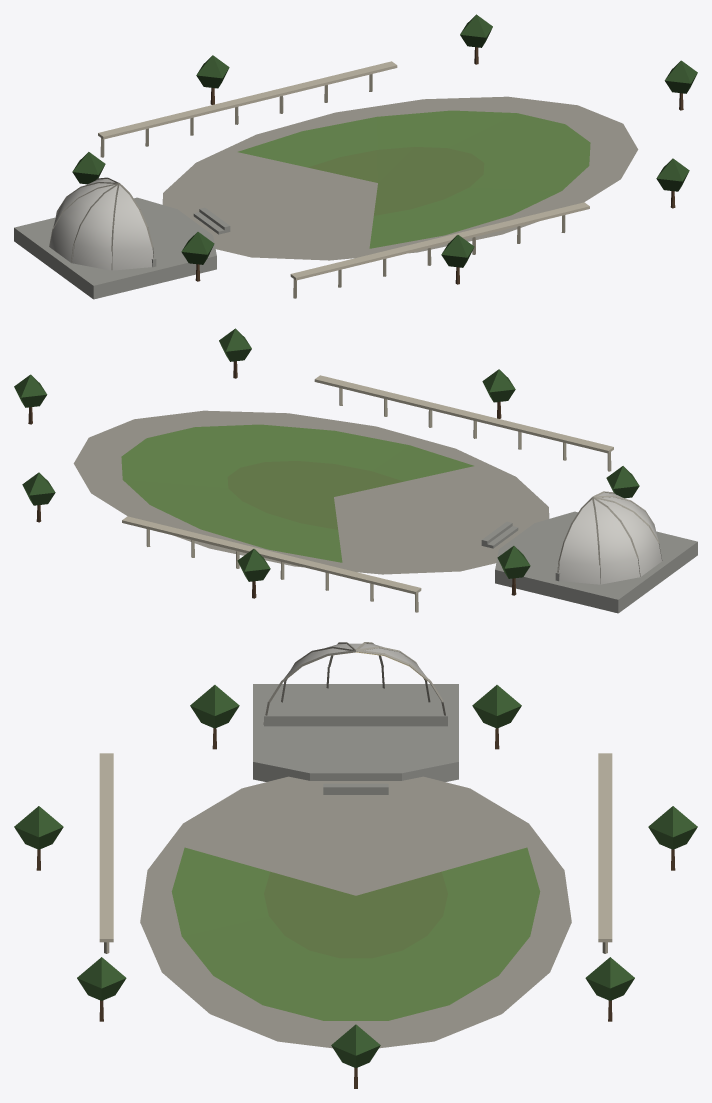
The model's file is mobile.glb.
3 views of the same model, one above another, from view 1: azimuth 30°, elevation 25°; view 2: azimuth 150°, elevation 25°; view 3: azimuth 270°, elevation 25° (orthographic). The views are drawn at different scales.
Visible parts, largest first — view 1: lm.park-bandshell; view 2: lm.park-bandshell; view 3: lm.park-bandshell.
Part boxes in pixels (<box>): lm.park-bandshell: <box>14,14,697,299</box>; lm.park-bandshell: <box>14,328,697,613</box>; lm.park-bandshell: <box>14,642,697,1088</box>.
Bounding box in the file's own units: 178 × 18.91 × 126.
